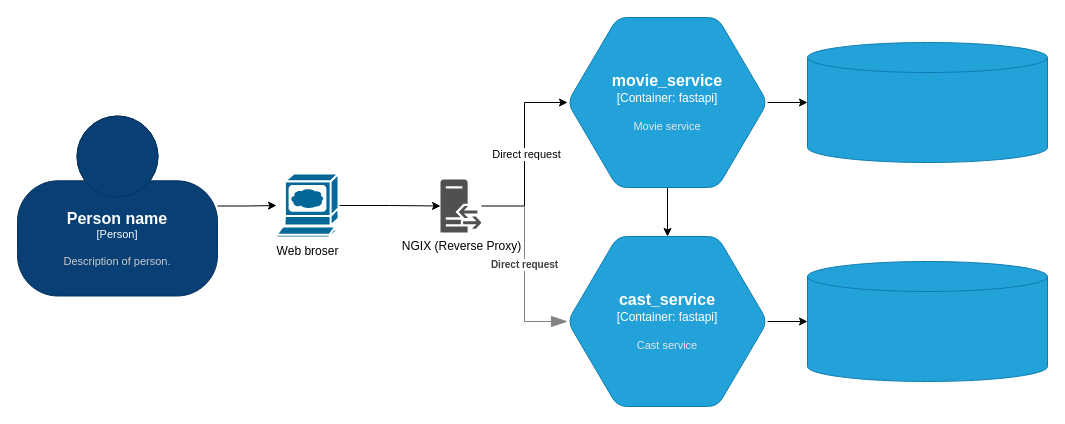
This 1065x424 diagram has some shape labels left out. Each missing label, with the centre of its shape:
"cast_db [Container: postgres] Cast database" goes at [927,321].
"movie_db [Container: postgres] Movie database" goes at [927,102].
